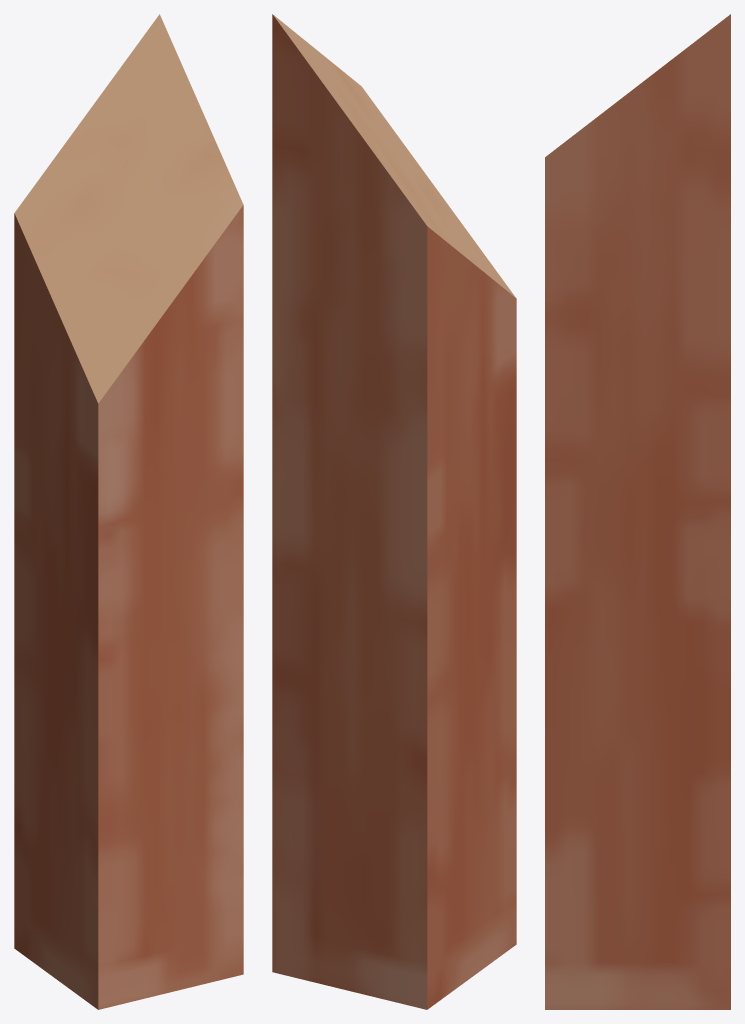
Rendered from pergola_s06.fbx.
3 views of the same model, side by side, from view 1: azimuth 30°, elevation 25°; view 2: azimuth 150°, elevation 25°; view 3: azimuth 270°, elevation 25° (orthographic). The views are drawn at different scales.
Parts seen in each view (by area): view 1: pergola_s06; view 2: pergola_s06; view 3: pergola_s06.
Boxes of the visible parts, bbox=[...] form: pergola_s06: bbox=[14, 14, 243, 1009]; pergola_s06: bbox=[272, 14, 516, 1009]; pergola_s06: bbox=[545, 14, 730, 1009].
Size of the model in its own units: 0.4 by 2.37 by 0.4.
